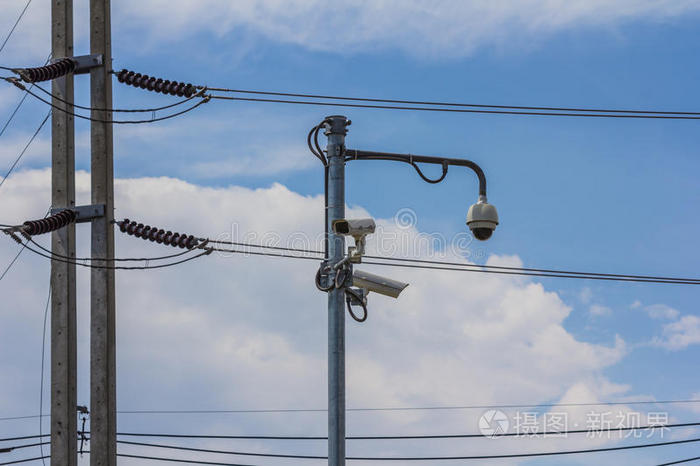insulator: (119, 218, 196, 250), (116, 68, 193, 99), (24, 208, 75, 236), (23, 59, 73, 83)
